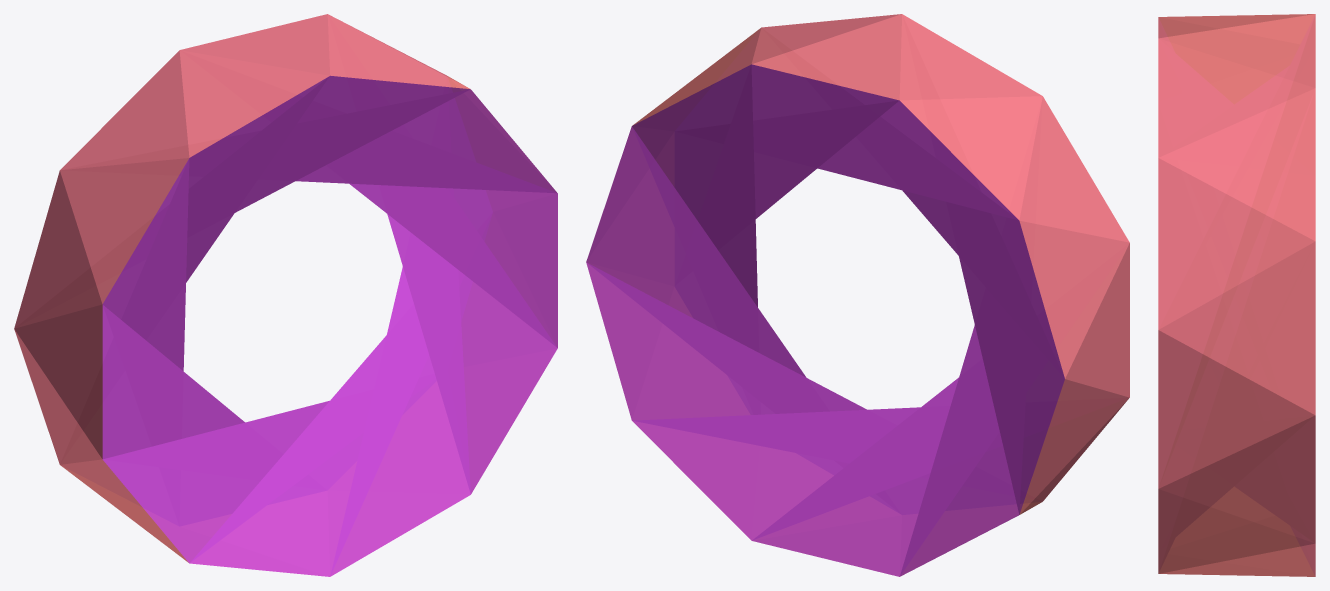
File: AntiDecagonalIrisToroid2.obj
3 views of the same model, side by side, from view 1: azimuth 30°, elevation 25°; view 2: azimuth 150°, elevation 25°; view 3: azimuth 270°, elevation 25° (orthographic). The views are drawn at different scales.
Bounding box in the file's own units: 2.6 × 2.6 × 0.72.
